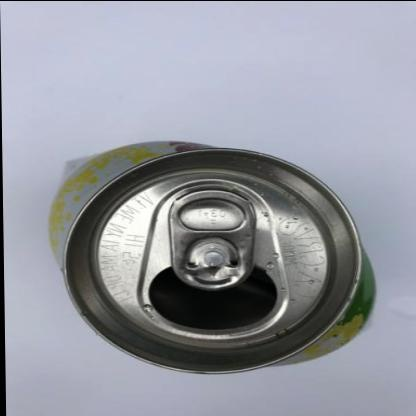trash: (49, 142, 374, 371)
